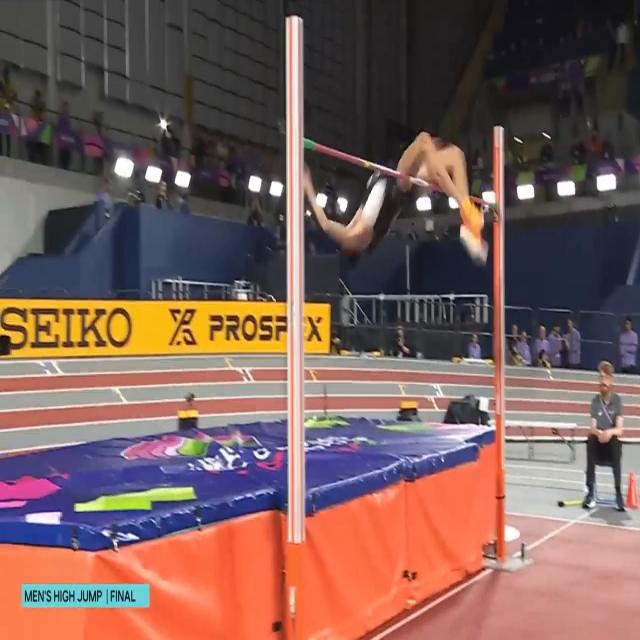jump: (304, 130, 488, 260)
